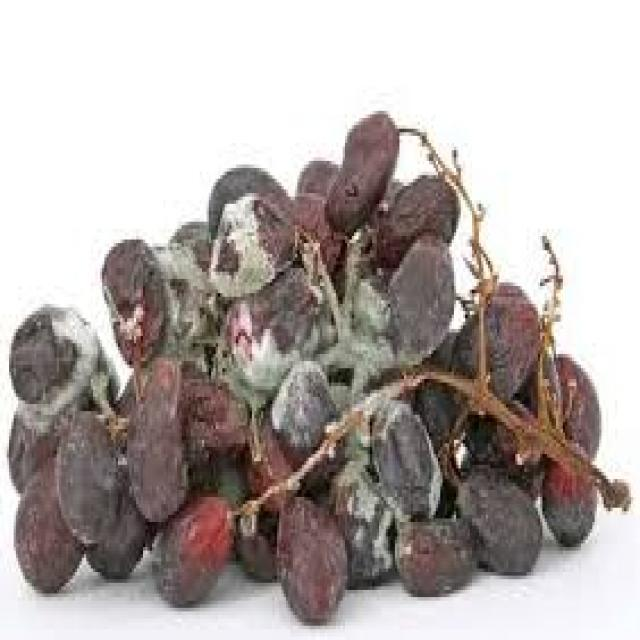organic waste: (9, 361, 116, 494), (7, 300, 106, 426), (311, 240, 386, 390), (225, 268, 320, 376), (150, 486, 236, 604), (127, 358, 188, 518), (386, 225, 456, 361), (275, 486, 345, 622), (14, 454, 84, 590), (322, 107, 400, 229), (454, 465, 540, 572), (52, 408, 118, 544), (206, 190, 298, 286), (272, 358, 340, 479), (374, 400, 438, 526), (84, 451, 147, 579), (100, 236, 163, 361), (374, 172, 460, 261), (329, 458, 388, 579), (392, 512, 478, 594), (177, 358, 245, 458), (207, 165, 290, 246), (479, 279, 540, 386), (538, 432, 592, 550), (152, 243, 211, 351), (245, 411, 297, 515), (470, 411, 538, 490), (549, 340, 599, 447), (411, 336, 463, 433), (293, 190, 340, 272), (331, 375, 377, 454), (234, 497, 277, 579), (166, 222, 211, 290), (206, 447, 248, 511), (452, 304, 478, 386), (368, 175, 404, 229), (293, 154, 338, 196)
